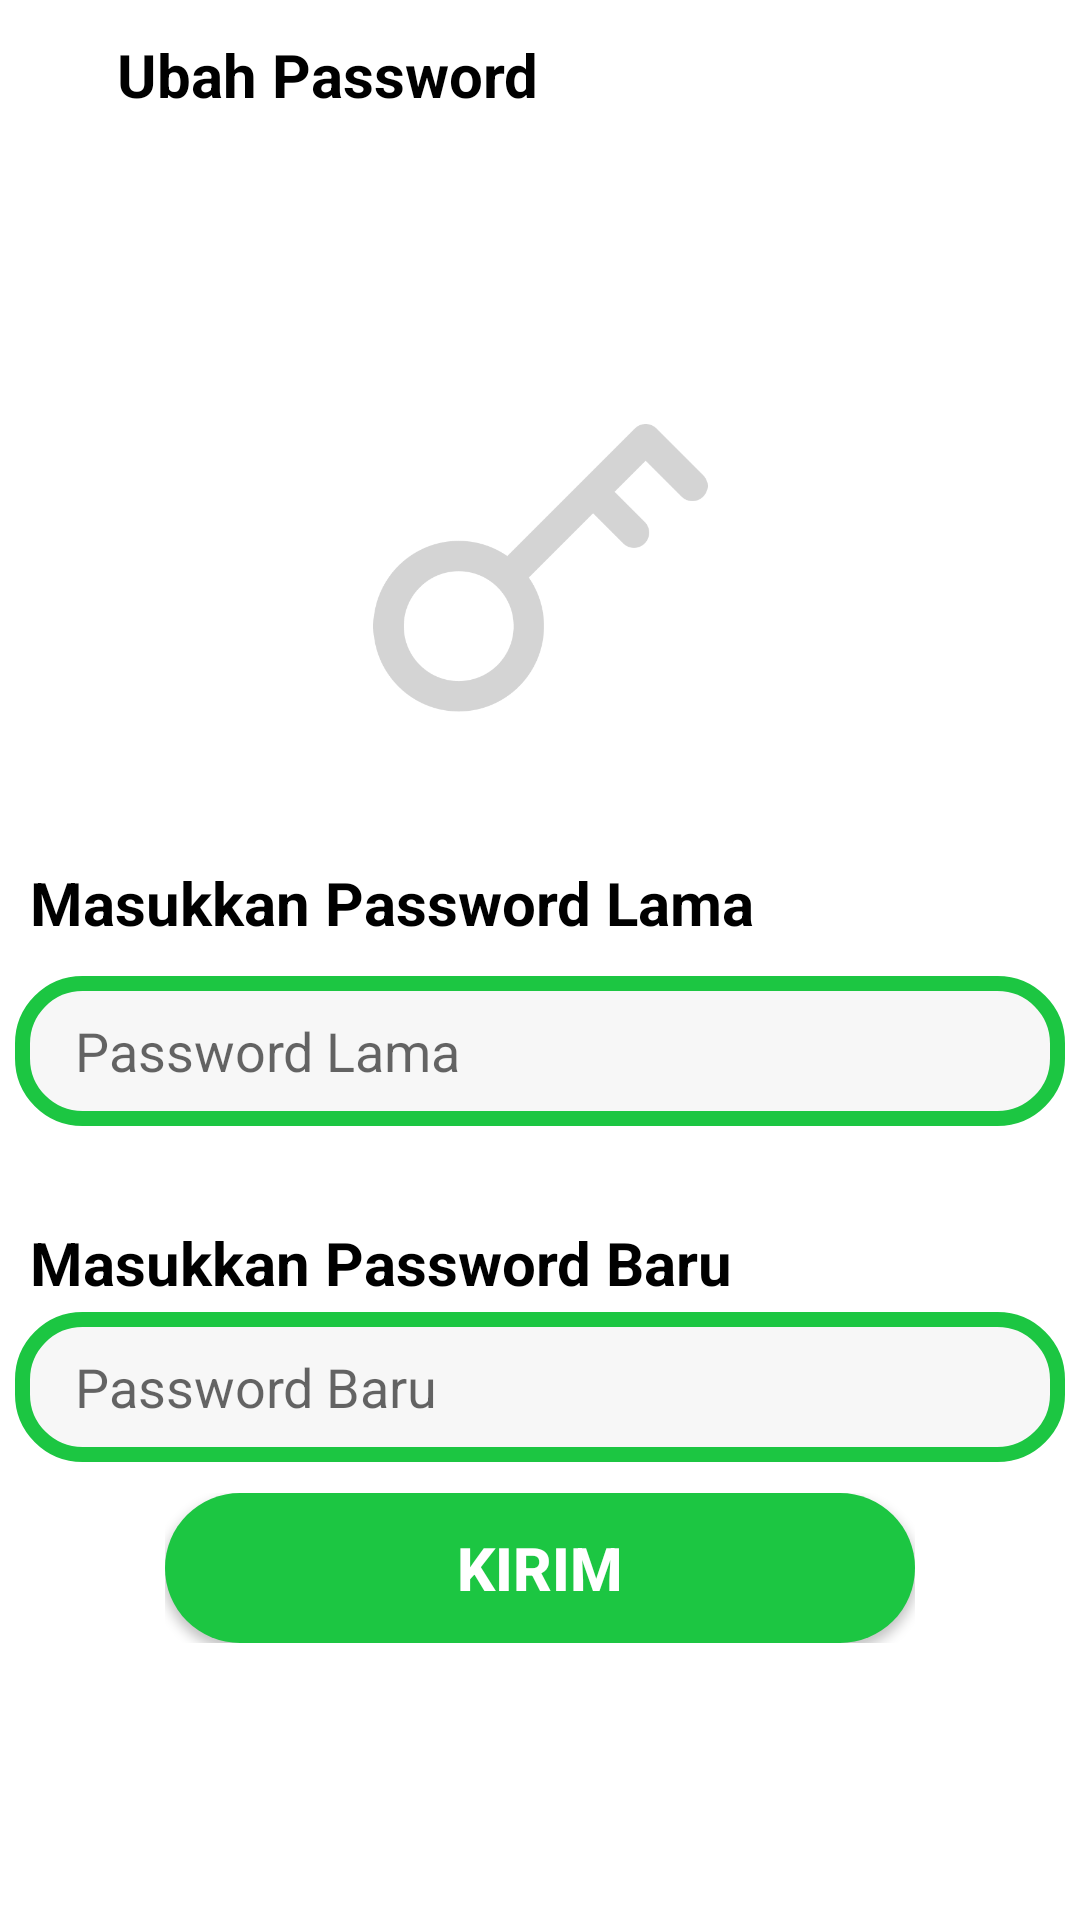

Screen size 1080 × 1920. Icon name, then its box in pixels as (x1, y1, x2, y2):
kunci: (373, 424, 708, 711)
